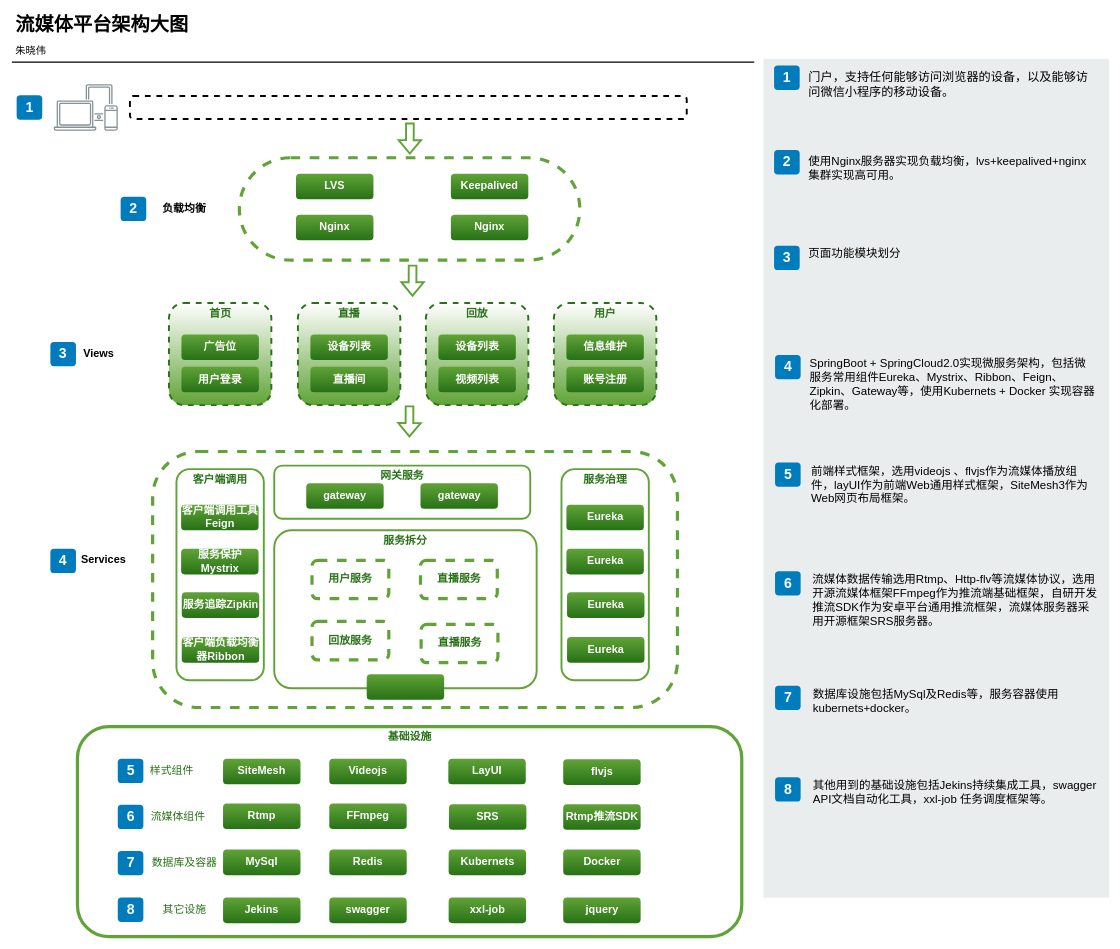
This 1120x949 diagram has some shape labels left out. The centre of each missing label's shape, as x and y in pixels:
"devices" goes at (85,107).
"portal" goes at (408,107).
"SpringDataJpa" goes at (405,687).
